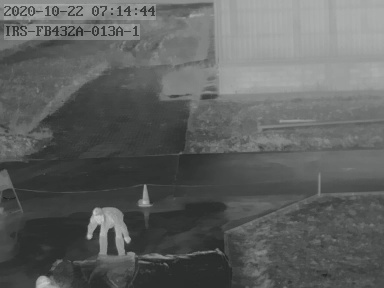person: (87, 206, 129, 255)
